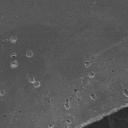corrosion: (9, 58, 18, 69), (87, 70, 97, 79), (88, 92, 97, 102), (9, 35, 18, 44), (25, 49, 33, 59), (83, 60, 92, 68), (28, 76, 35, 85), (121, 88, 128, 97), (73, 88, 79, 93)
